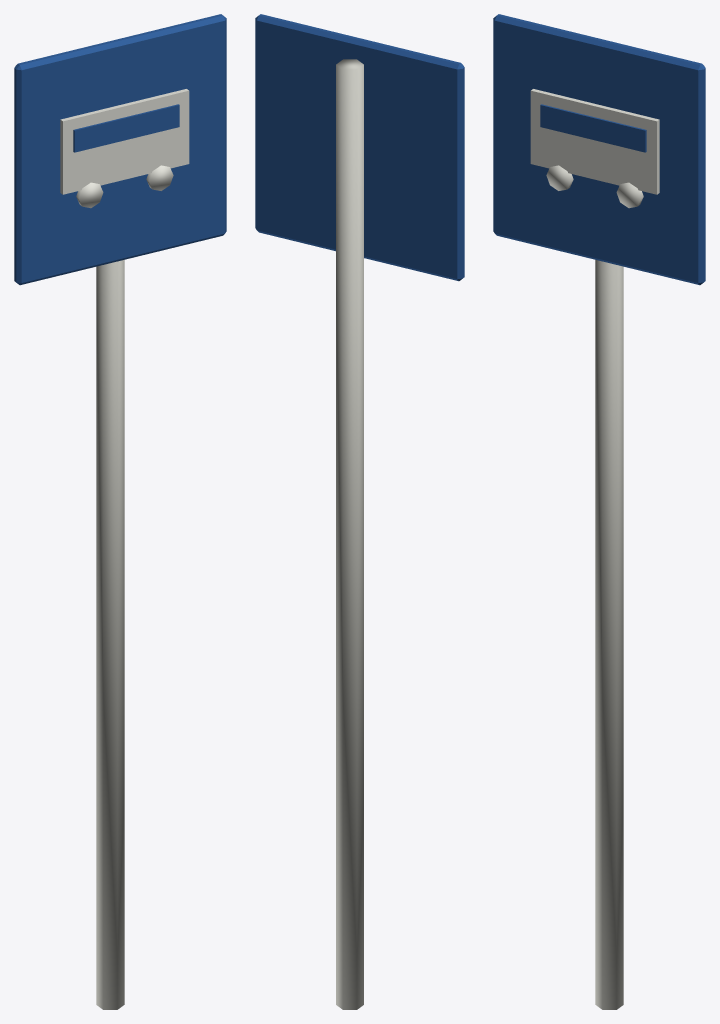
Rendered from sign_bus.glb.
3 views of the same model, side by side, from view 1: azimuth 30°, elevation 25°; view 2: azimuth 150°, elevation 25°; view 3: azimuth 330°, elevation 25° (orthographic).
Visible parts, largest first — view 1: RoadSign; view 2: RoadSign; view 3: RoadSign.
Boxes of the visible parts, left/top/right/bottom form: RoadSign: left=14, top=14, right=226, bottom=1009; RoadSign: left=255, top=14, right=464, bottom=1009; RoadSign: left=493, top=14, right=705, bottom=1009.
Bounding box in the file's own units: 0.6 × 2.65 × 0.118.
